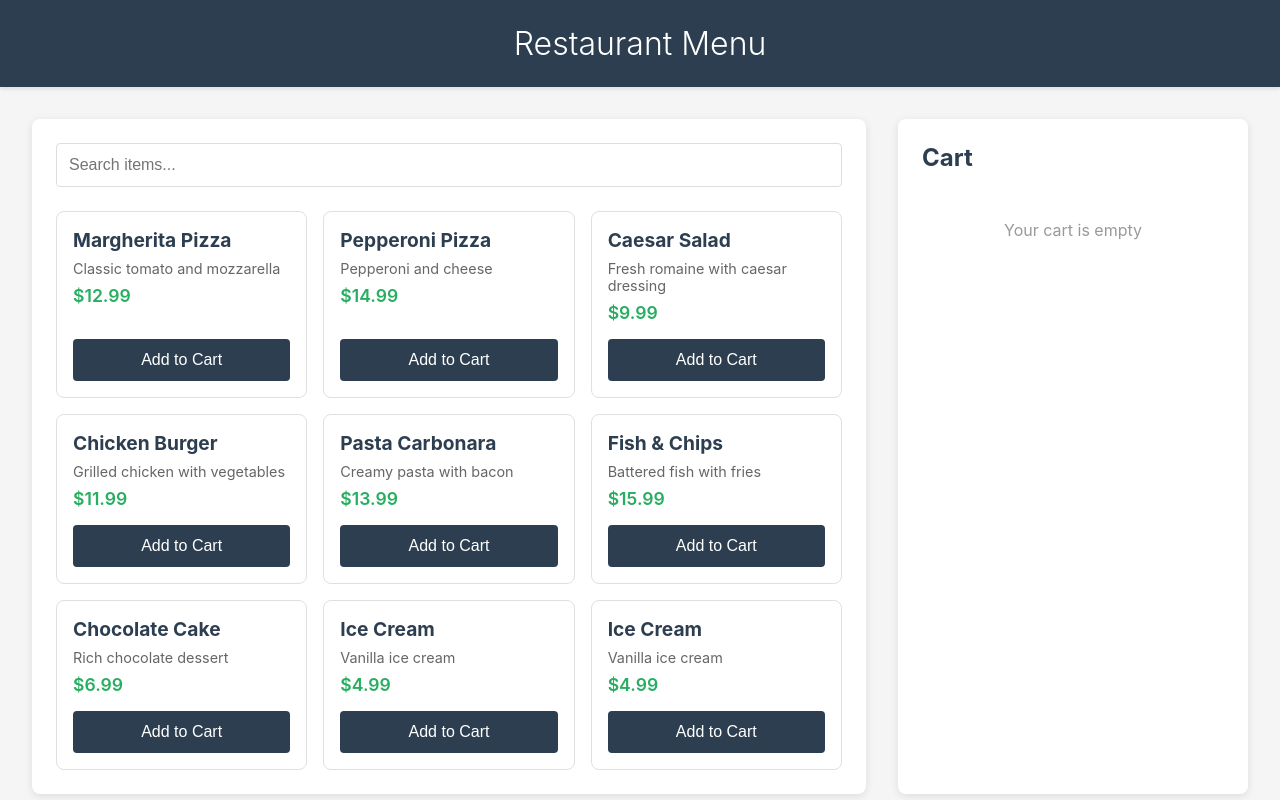
Test: App › increments quantity when adding same item multiple times
The width and height of the screenshot is (1280, 800).
Click the button "Add to Cart" below "12.99": (182, 360) [73,339,290,381]
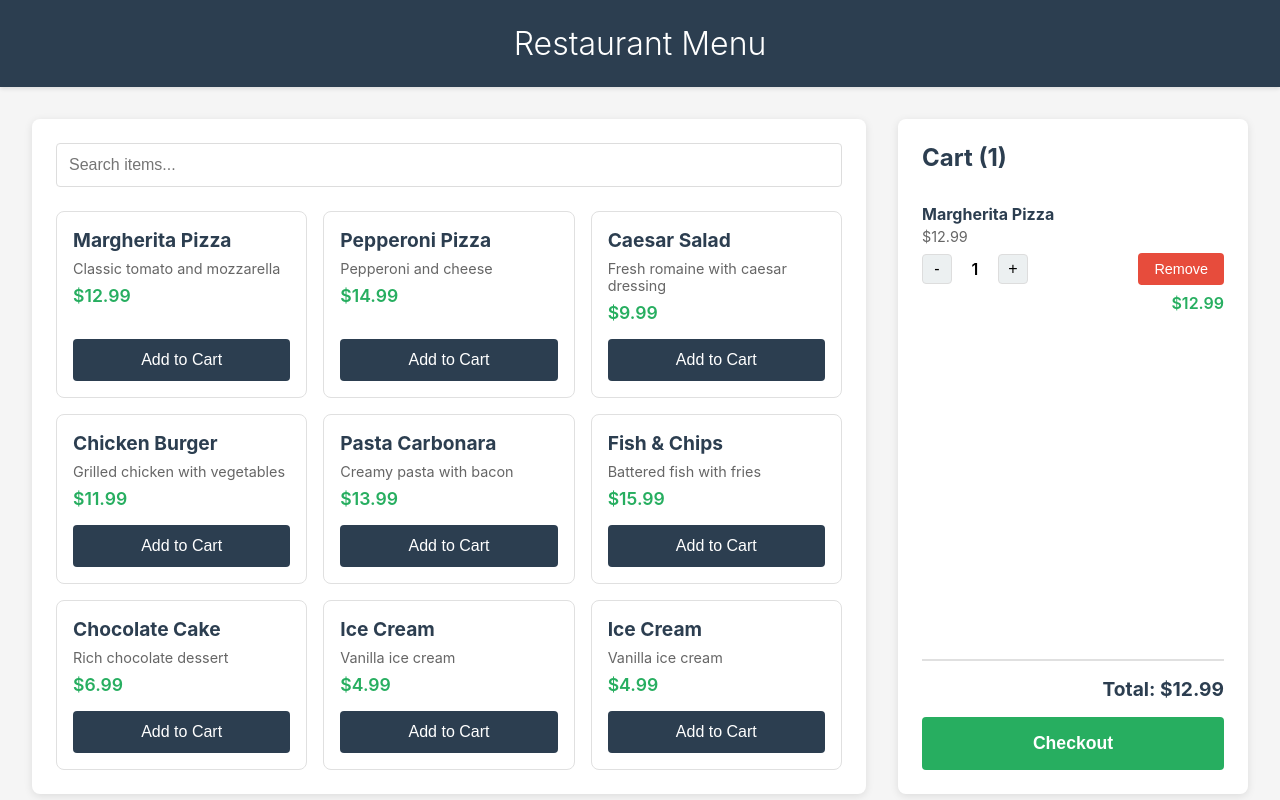
Click the button "Add to Cart" below "Classic tomato and mozzarella": (182, 360) [73,339,290,381]
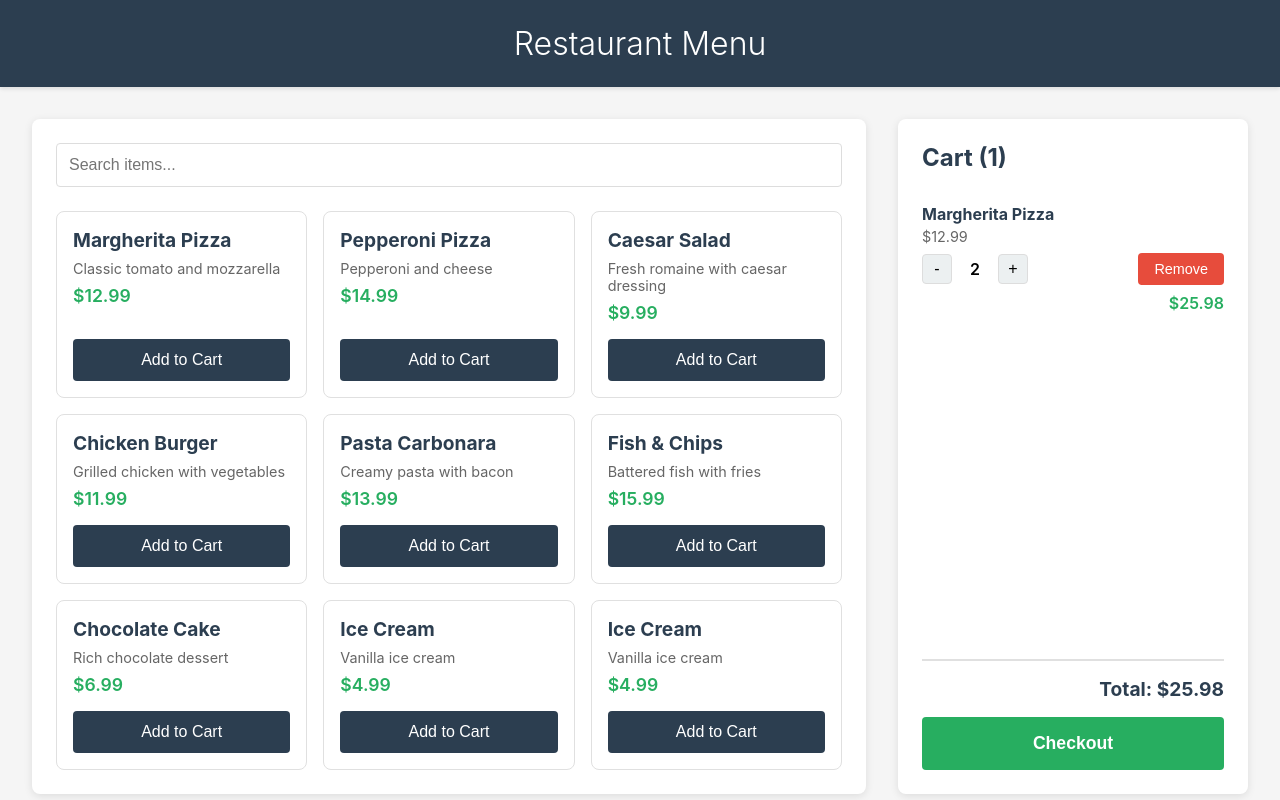
Check: the text "2" is shown, box [970,259,980,279]
